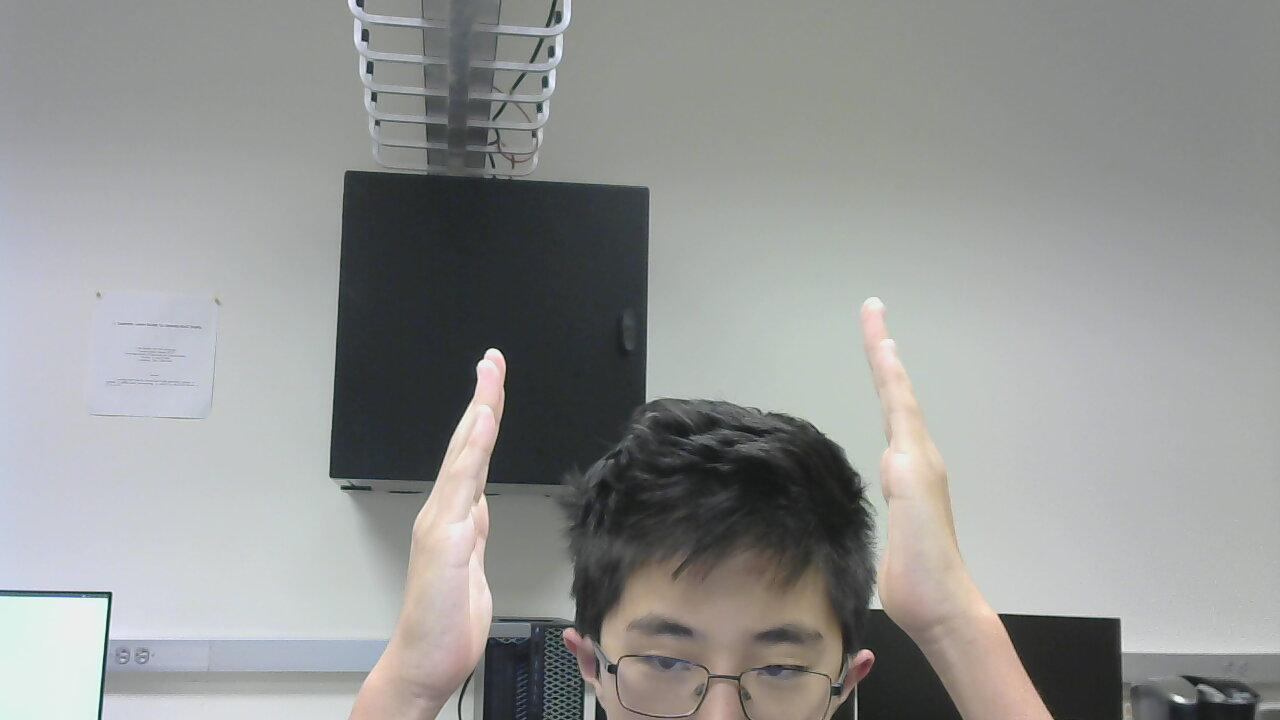hands: (856, 292, 994, 633), (398, 346, 521, 694)
